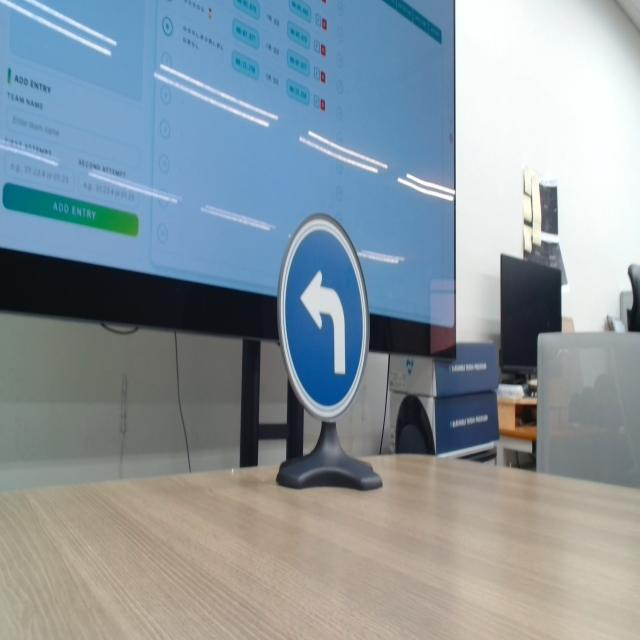left_direction: (272, 209, 372, 417)
